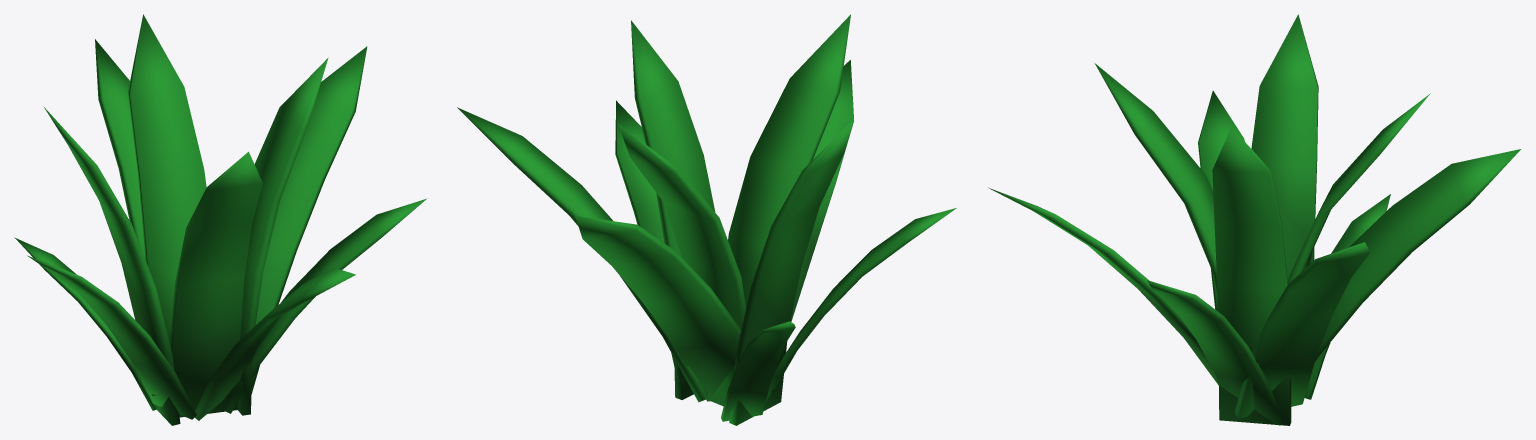
File: GramaVerde.fbx
The picture shows the model from 3 angles, left to right: view 1: azimuth 30°, elevation 25°; view 2: azimuth 150°, elevation 25°; view 3: azimuth 270°, elevation 25°; orthographic projection.
Parts seen in each view (by area): view 1: GramaVerde; view 2: GramaVerde; view 3: GramaVerde.
Part boxes in pixels (x1,y1,x2,y2): GramaVerde: (14,14,426,425); GramaVerde: (457,14,956,425); GramaVerde: (988,14,1520,425).
Size of the model in its own units: 103 by 79.12 by 114.
